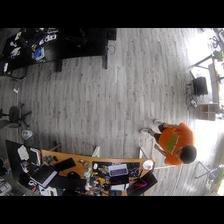normal: (138, 119, 197, 166)
